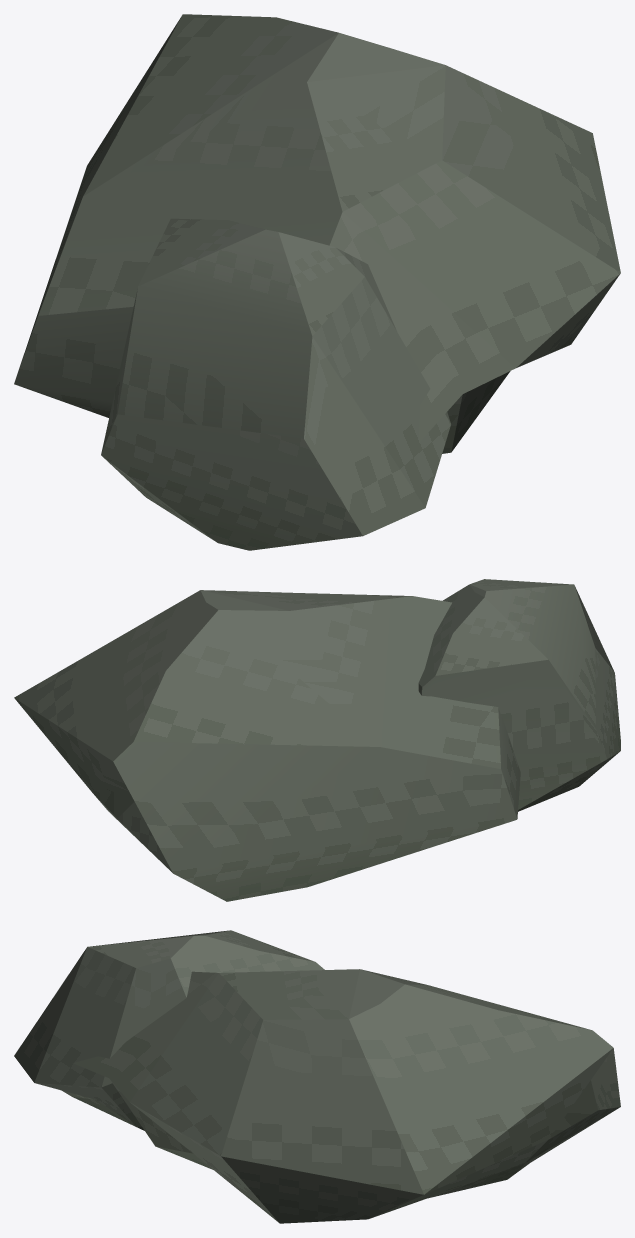
The model's file is Mesh_Deco_Pierre_4.glb.
3 views of the same model, one above another, from view 1: azimuth 30°, elevation 25°; view 2: azimuth 150°, elevation 25°; view 3: azimuth 270°, elevation 25° (orthographic). The views are drawn at different scales.
Visible parts, largest first — view 1: Mesh_Deco_Pierre_4; view 2: Mesh_Deco_Pierre_4; view 3: Mesh_Deco_Pierre_4.
Part boxes in pixels (<box>): Mesh_Deco_Pierre_4: <box>14,14,620,550</box>; Mesh_Deco_Pierre_4: <box>14,579,620,901</box>; Mesh_Deco_Pierre_4: <box>14,930,620,1223</box>.
Bounding box in the file's own units: 0.8207 × 0.3353 × 0.9602.
1 material, 1 textured.
